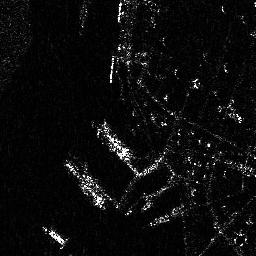ship: (62, 158, 107, 210), (89, 118, 133, 160), (41, 224, 66, 247)
